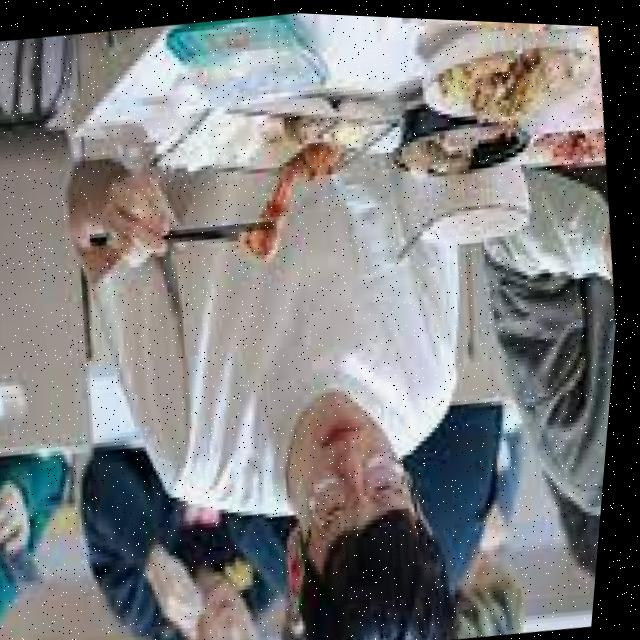eating-person: (23, 39, 586, 640)
